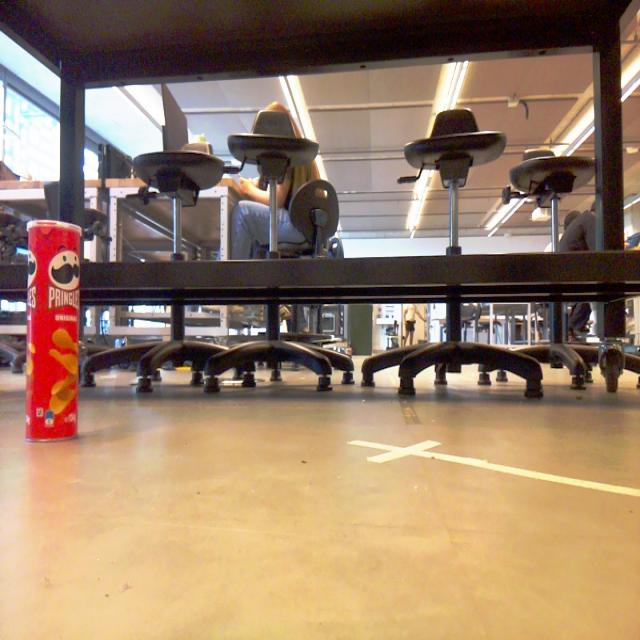redpringles: (12, 205, 102, 456)
